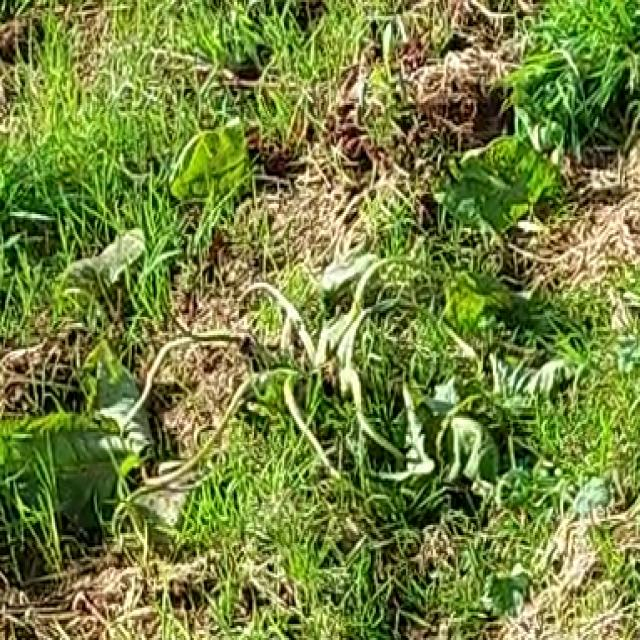organic waste: (0, 91, 610, 581)
